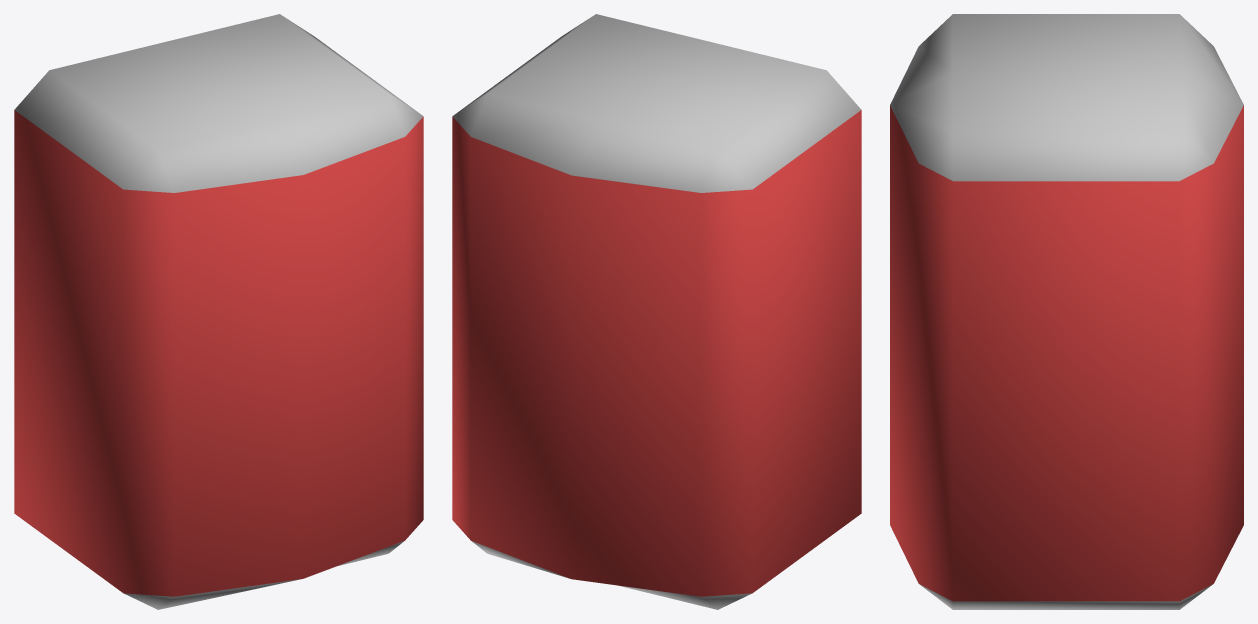
The model's file is Kan2.fbx.
The picture shows the model from 3 angles, left to right: view 1: azimuth 30°, elevation 25°; view 2: azimuth 150°, elevation 25°; view 3: azimuth 270°, elevation 25°; orthographic projection. The views are drawn at different scales.
Parts seen in each view (by area): view 1: 立方体.008; view 2: 立方体.008; view 3: 立方体.008.
Boxes of the visible parts, x1=… form: 立方体.008: x1=14, y1=14, x2=423, y2=609; 立方体.008: x1=452, y1=14, x2=861, y2=609; 立方体.008: x1=890, y1=14, x2=1243, y2=609.
Size of the model in its own units: 35.9 by 52.55 by 35.2.
